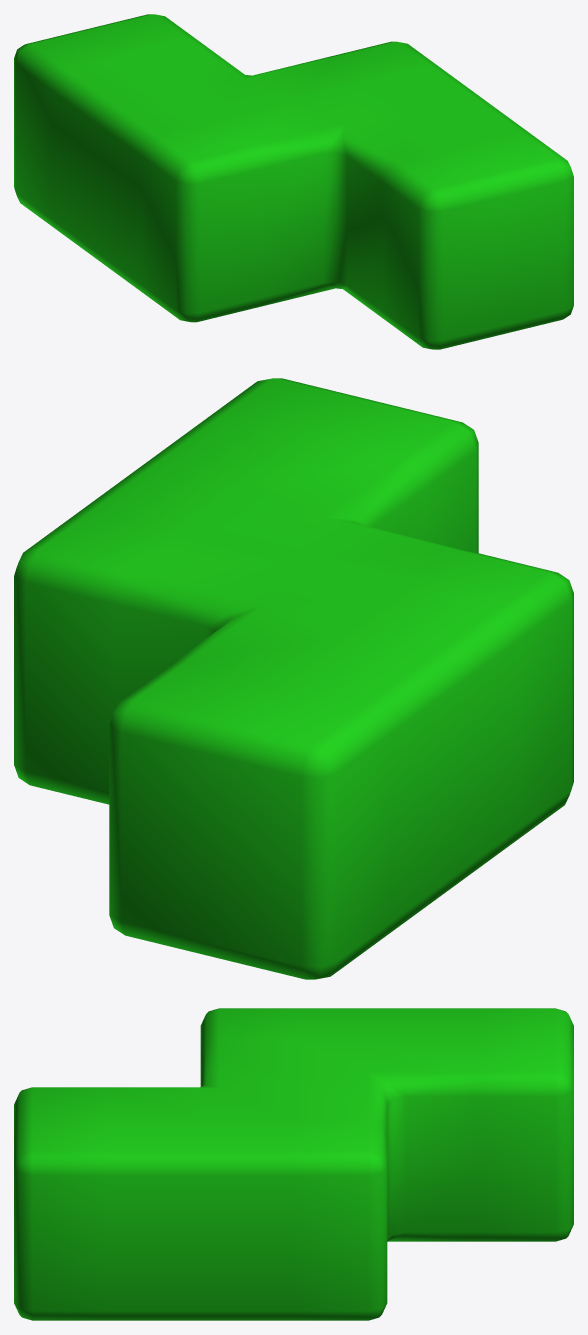
Rendered from tetrisS.obj.
The picture shows the model from 3 angles, top to bottom: view 1: azimuth 30°, elevation 25°; view 2: azimuth 150°, elevation 25°; view 3: azimuth 270°, elevation 25°; orthographic projection. The views are drawn at different scales.
Parts seen in each view (by area): view 1: Cube; view 2: Cube; view 3: Cube.
Boxes of the visible parts, left/top/right/bottom form: Cube: left=14, top=14, right=573, bottom=349; Cube: left=14, top=378, right=573, bottom=979; Cube: left=14, top=1008, right=573, bottom=1320.
Size of the model in its own units: 0.3 by 0.15 by 0.45.
